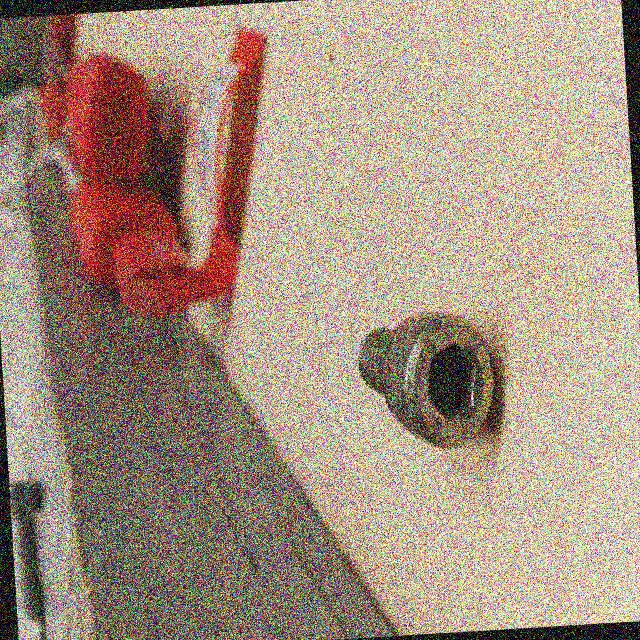allen: (405, 314, 503, 451)
